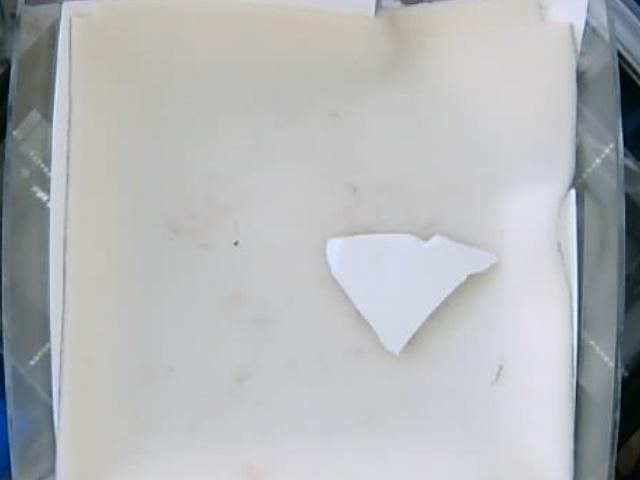China: (325, 226, 498, 355)
